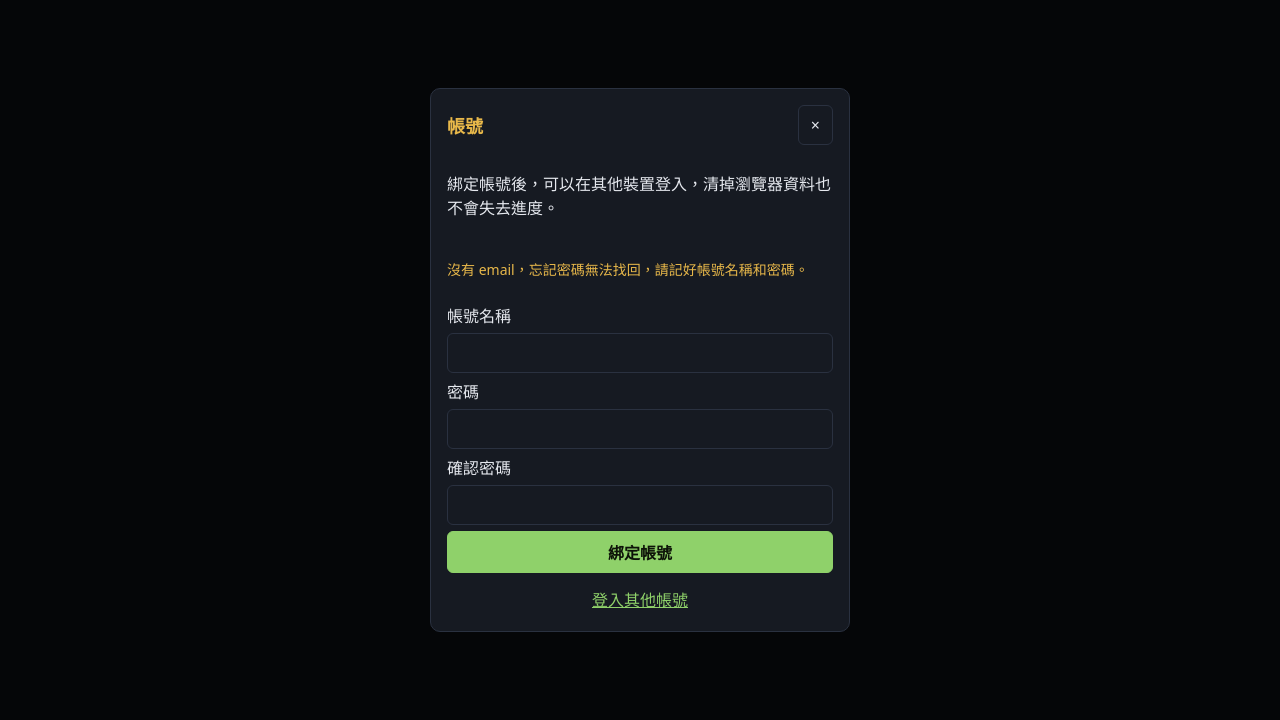
Test: AccountDialog (guest) › shows the taken error
This screenshot has width=1280, height=720.
Expected: the text "沒有 email，忘記密碼無法找回，請記好帳號名稱和密碼。" is shown, [447, 259, 833, 279]
Type "aria_1" into the field labelled "帳號名稱".
click(640, 353); type("aria_1")  # box [447, 333, 833, 373]
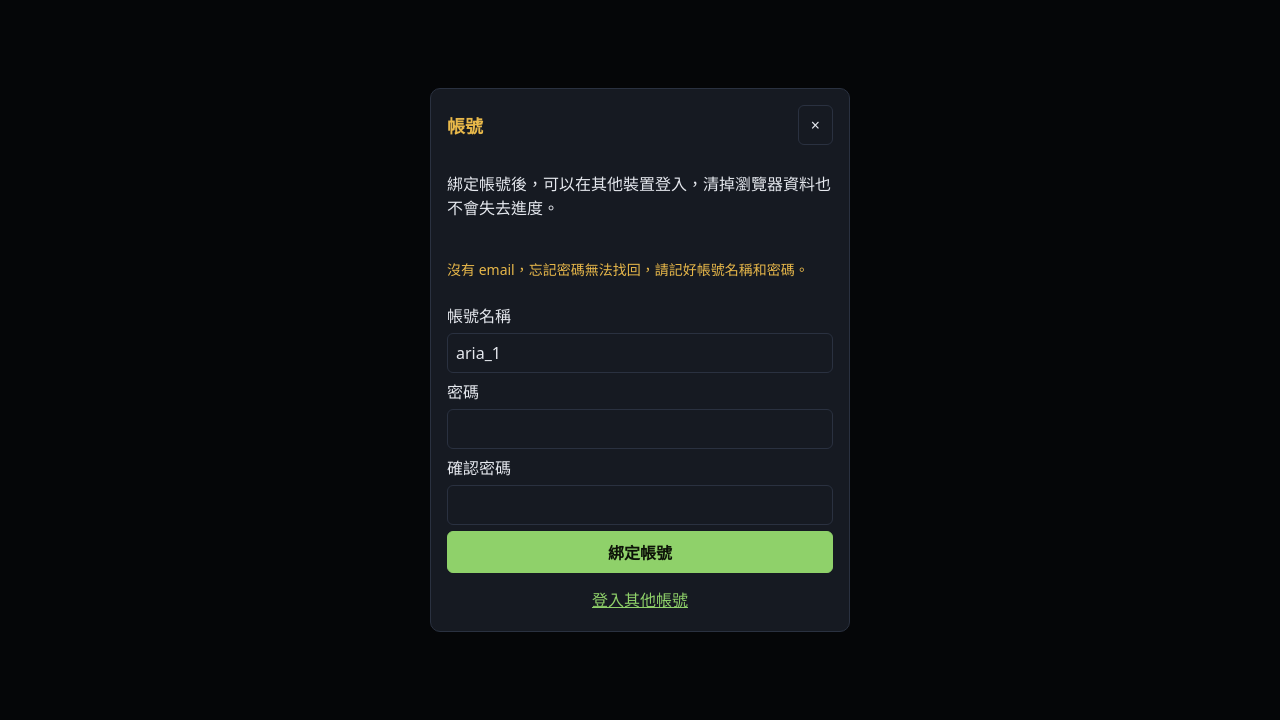
Type "password1" into the password field labelled "密碼".
click(640, 429); type("password1")  # box [447, 409, 833, 449]
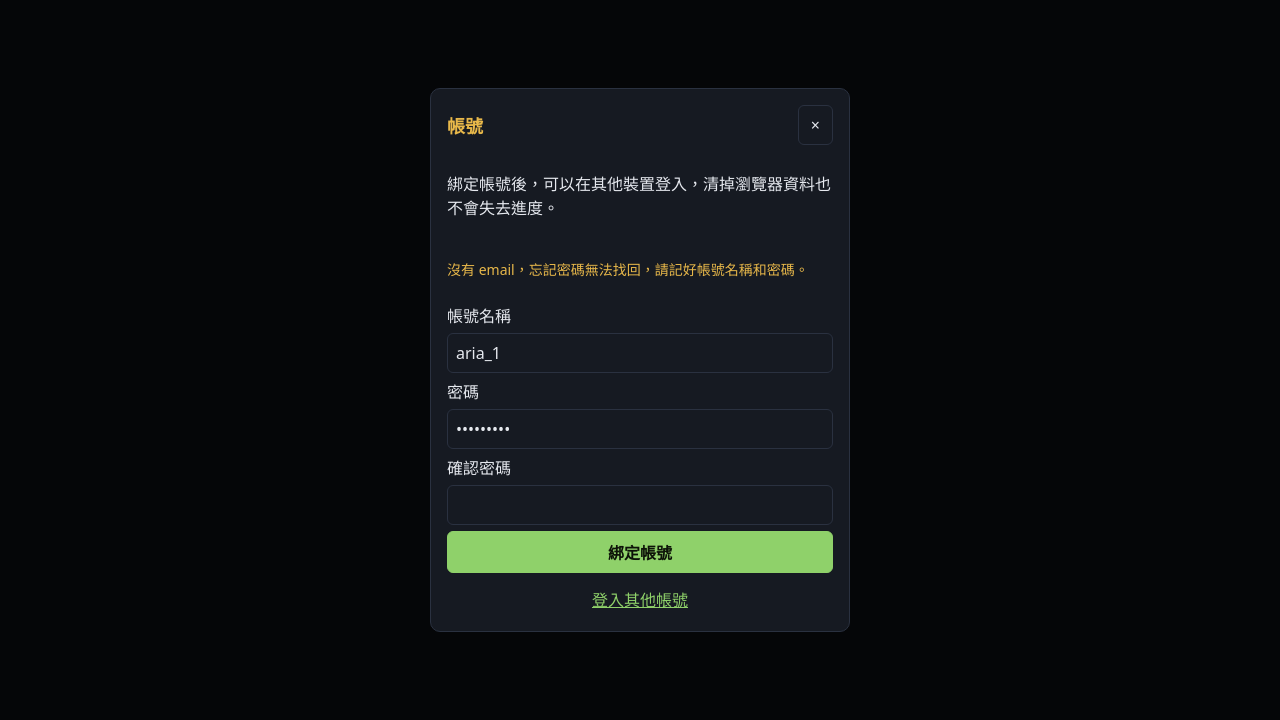
Type "password1" into the password field labelled "確認密碼".
click(640, 505); type("password1")  # box [447, 485, 833, 525]
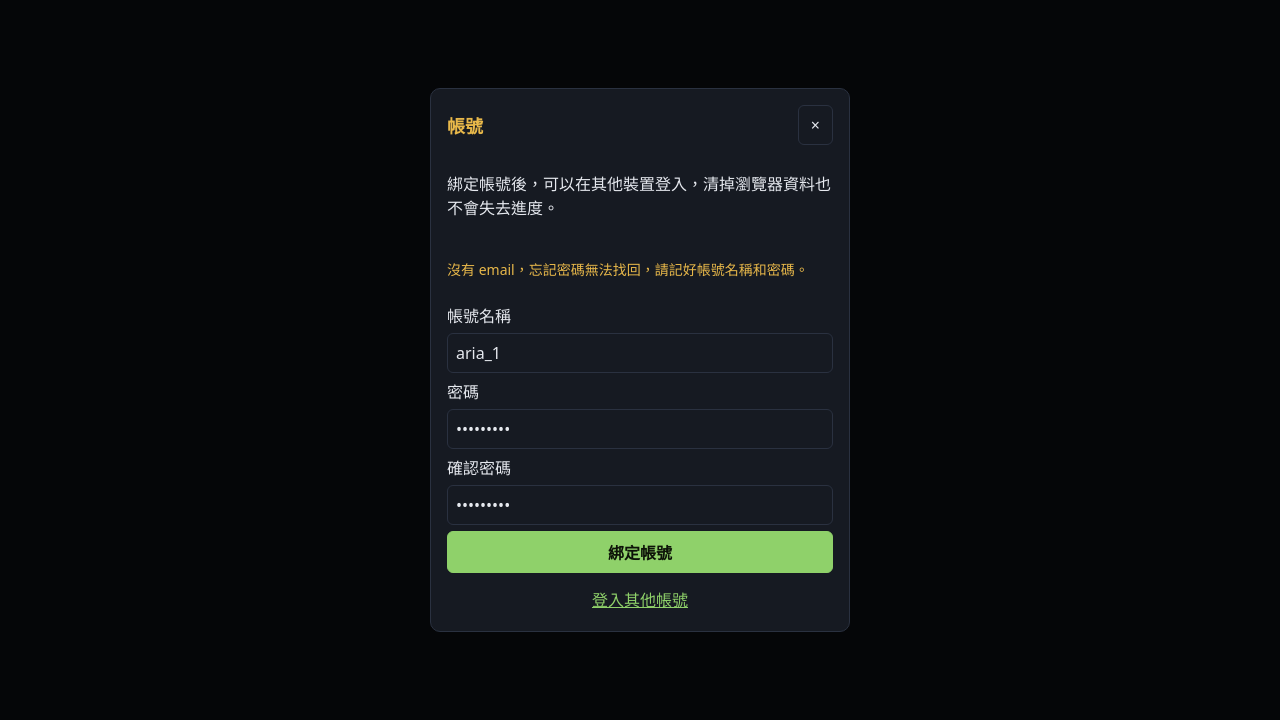
Click the button "綁定帳號".
click(640, 552)  # box [447, 531, 833, 573]
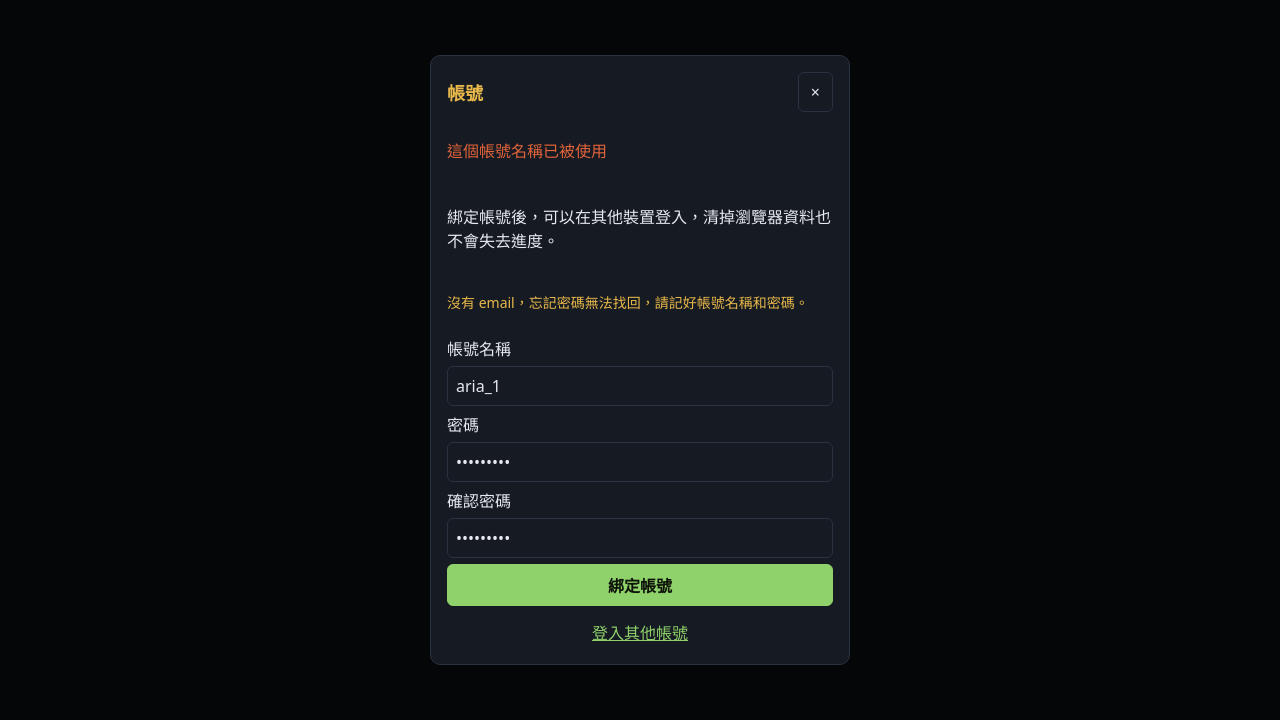
Result: the message reads "這個帳號名稱已被使用" at [447, 140, 607, 162]
